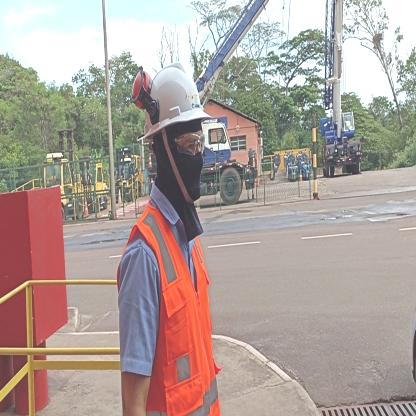Balaclava: (154, 134, 206, 217)
Capacete: (140, 63, 206, 125)
colete: (145, 219, 223, 416)
